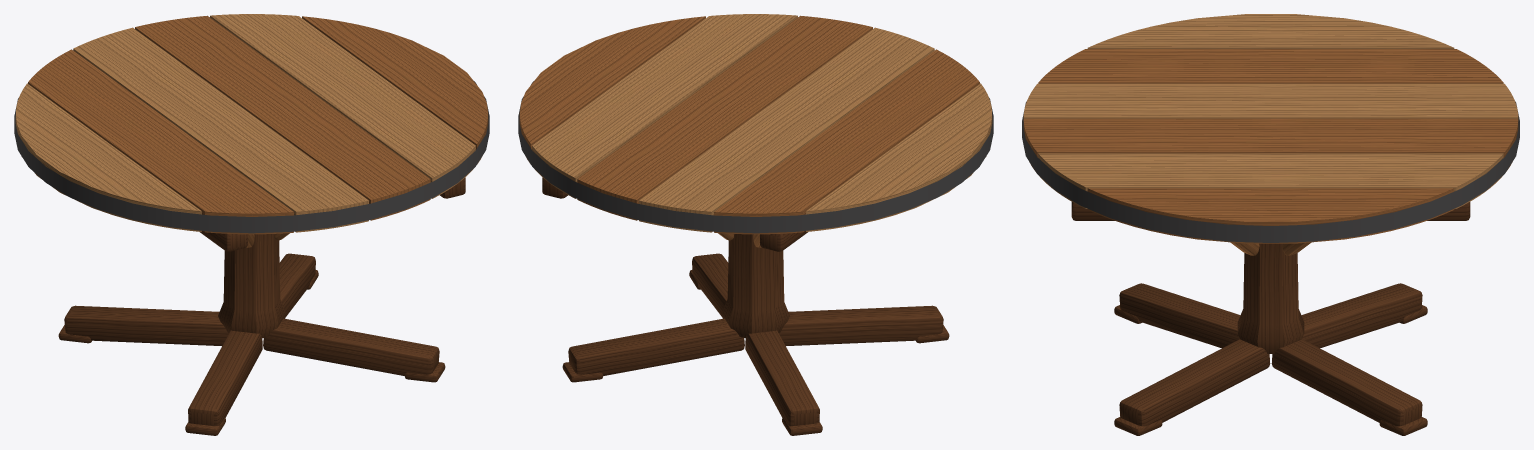
Rendered from tavern-table.glb.
3 views of the same model, side by side, from view 1: azimuth 30°, elevation 25°; view 2: azimuth 150°, elevation 25°; view 3: azimuth 270°, elevation 25° (orthographic). The views are drawn at different scales.
Visible parts, largest first — view 1: tavern_table; view 2: tavern_table; view 3: tavern_table.
Part boxes in pixels (x1,y1,x2,y2): tavern_table: (14, 14, 489, 435); tavern_table: (518, 14, 993, 435); tavern_table: (1022, 14, 1519, 435).
Bounding box in the file's own units: 1.25 × 0.7 × 1.25.
Materials: 4 (3 with a texture image).
